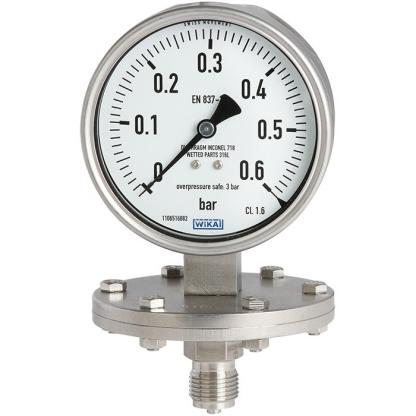needle: (143, 132, 204, 192)
